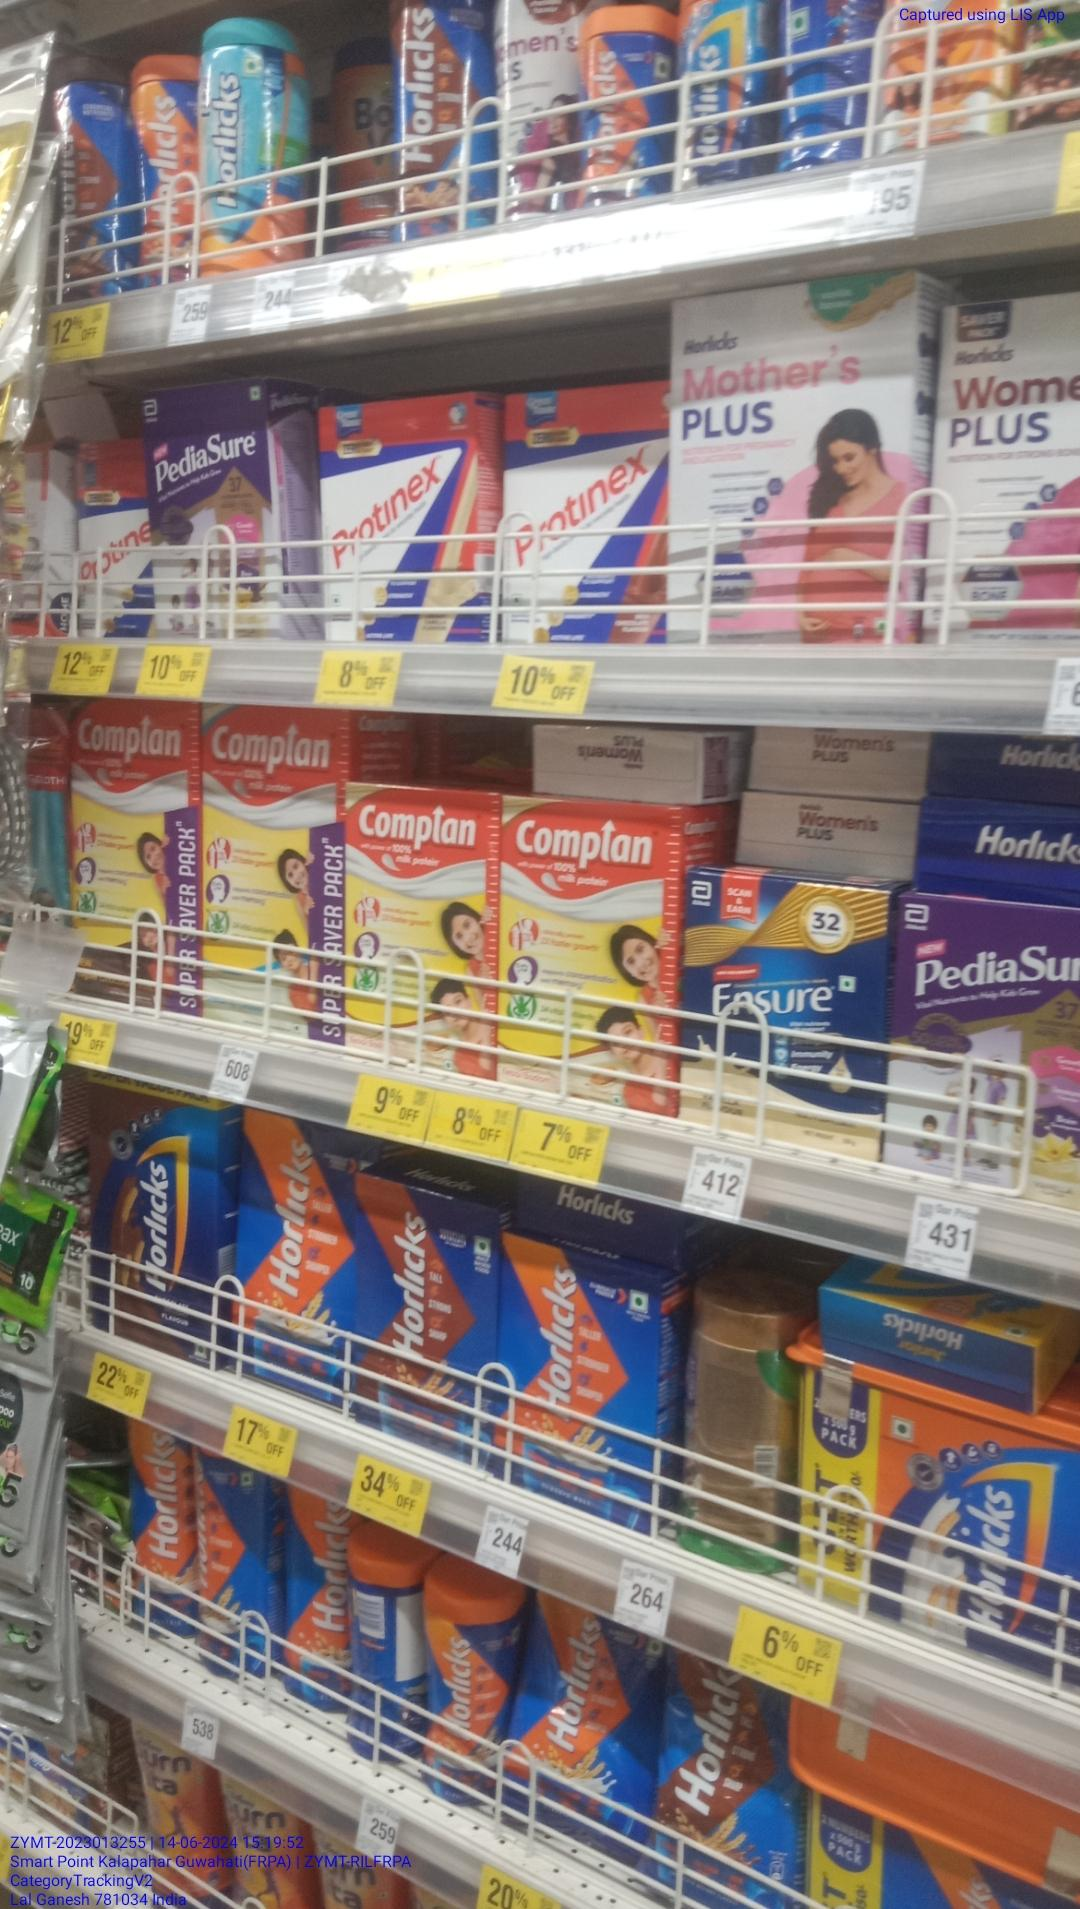COMPLAN_CHOCOLATE_1_KG_PACK: (69, 704, 197, 1008)
COMPLAN_KESAR_BADAM_500_GMS_PACK: (498, 813, 683, 1096), (343, 792, 499, 1058)
HORLICKS_LITE_REGULAR_MALT_500_GM_JAR: (195, 28, 301, 277)
HORLICK_CHOCOLATE_1_KG_PACK: (90, 1109, 228, 1344), (665, 1653, 788, 1891)
HORLICK_CHOCOLATE_500_G_JAR: (381, 0, 495, 243)
HORLICK_CLASSIC_MALT_500_G_JAR: (426, 1577, 501, 1795)
HORLICK_CLASSIC_MALT_500_G_PACK: (499, 1267, 665, 1497), (355, 1205, 498, 1429)
HORLICK_MALT_1_KG_CONTAINER: (788, 1391, 1077, 1624)
